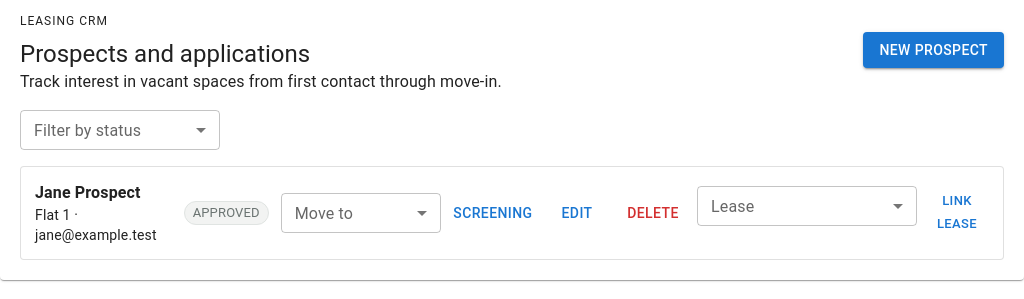
Scenario: asks for a lease before linking
Click the button "Link lease".
click(957, 213)  # box [925, 186, 989, 240]
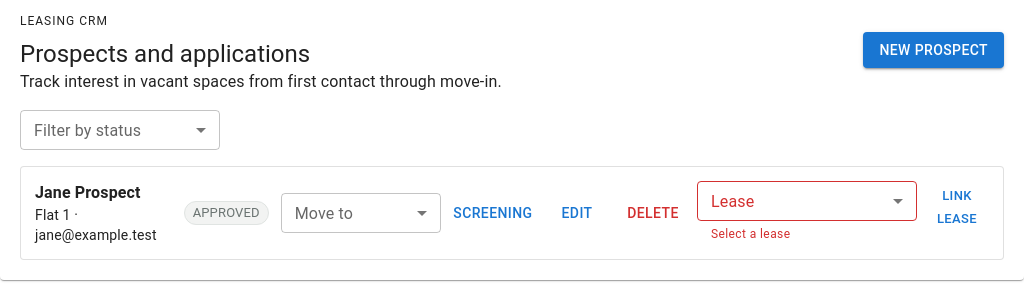
Result: the text "Select a lease" is shown at [711, 227, 790, 241]
